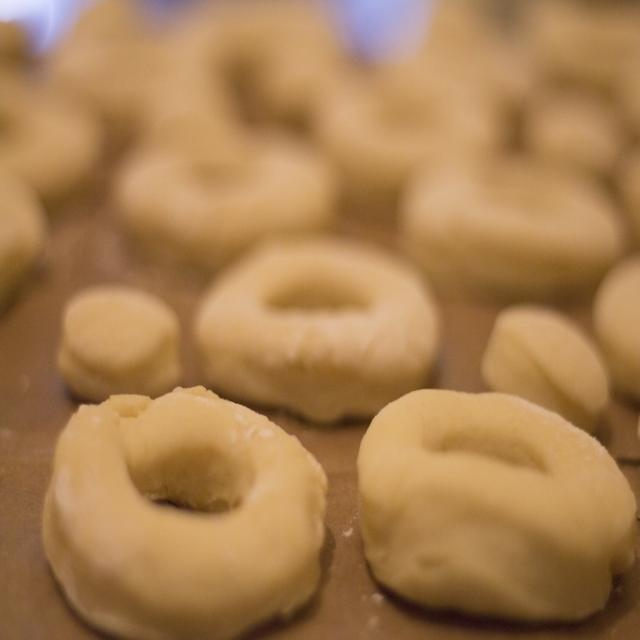Bagel: (41, 378, 328, 640), (358, 383, 640, 629), (192, 231, 438, 434)
